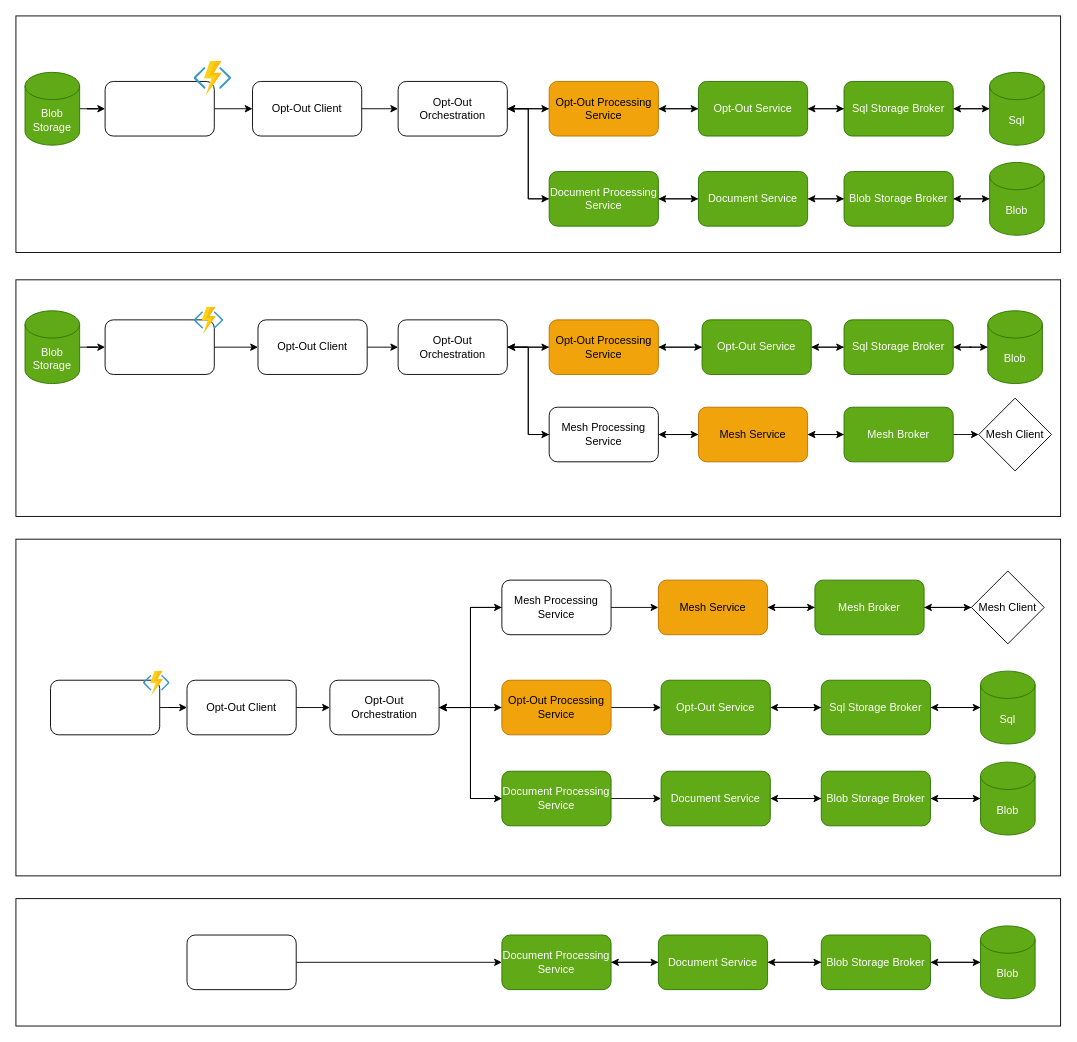
Some shapes in this 1077 by 1042 pixel diagram are drawn without their labels. Here are the shapes that lost their labels. From the top down, the box of each, then its label:
(104, 81, 214, 136): Opt-Out Listen Function
(104, 319, 214, 374): Opt-Out Checker Function
(50, 679, 160, 735): Opt-Out Receiver Function
(186, 934, 296, 990): Opt-Out Api Controller
